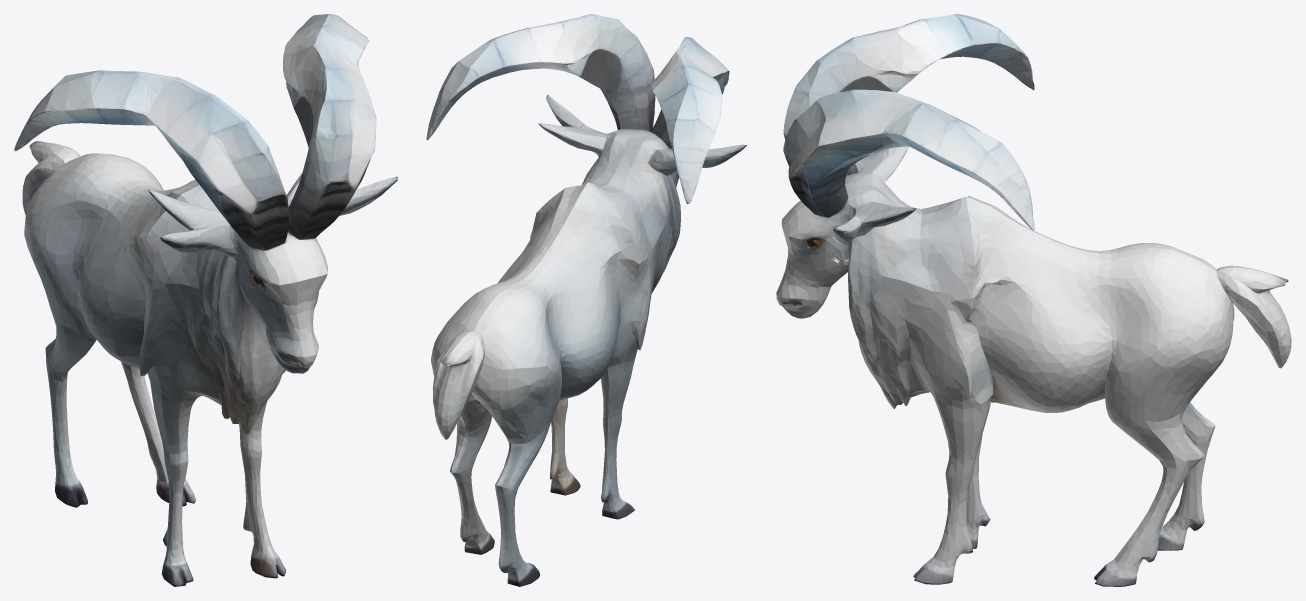
Rendered from aurora_ibex.glb.
3 views of the same model, side by side, from view 1: azimuth 30°, elevation 25°; view 2: azimuth 150°, elevation 25°; view 3: azimuth 270°, elevation 25° (orthographic). The views are drawn at different scales.
Parts seen in each view (by area): view 1: geometry_0; view 2: geometry_0; view 3: geometry_0.
Part boxes in pixels (x1,y1,x2,y2): geometry_0: [14, 14, 397, 586]; geometry_0: [426, 14, 746, 586]; geometry_0: [776, 14, 1291, 586].
Bounding box in the file's own units: 0.6251 × 1 × 0.9387.
Materials: 1 (1 with a texture image).
